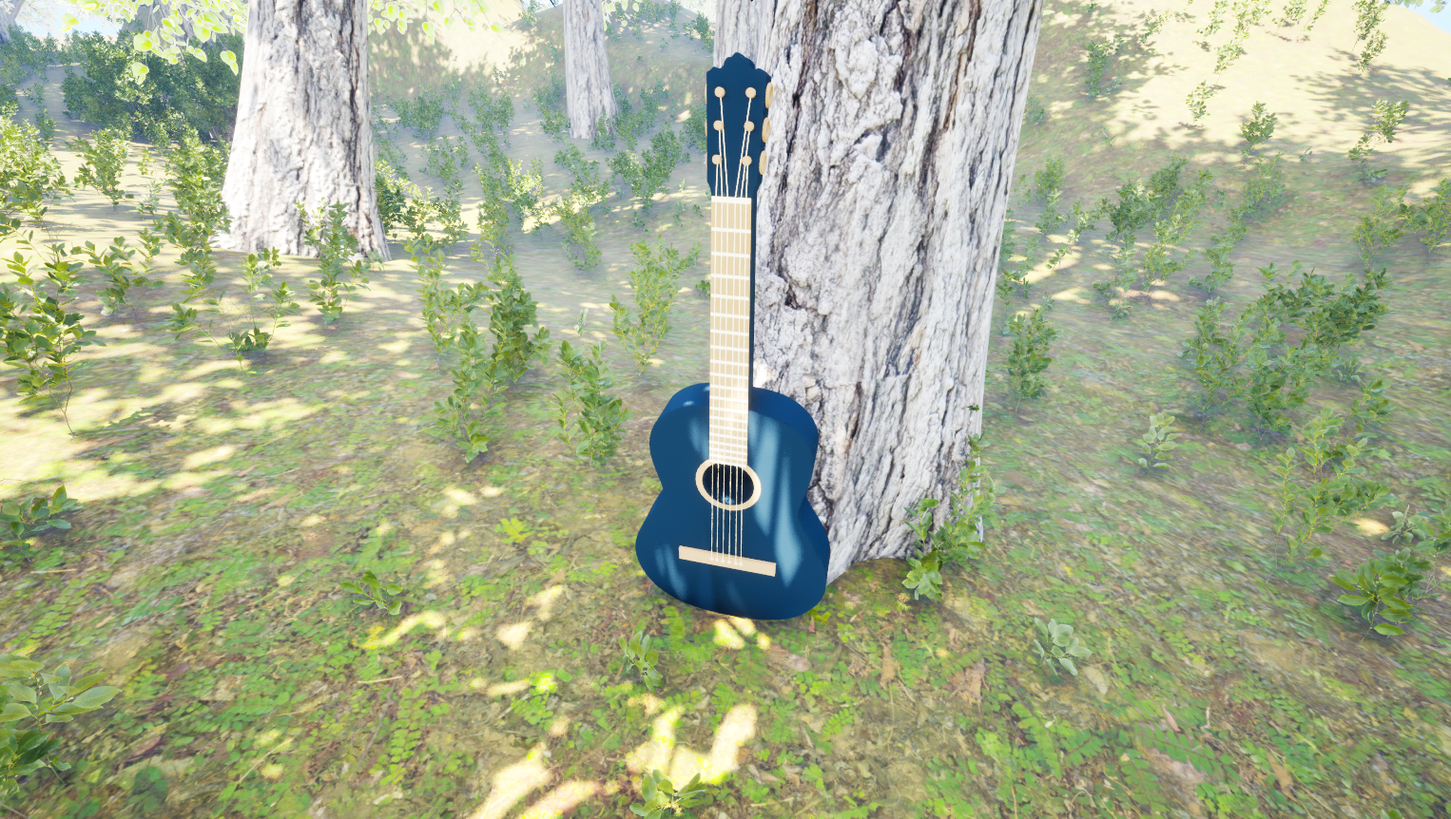Guitar: (579, 49, 894, 637)
